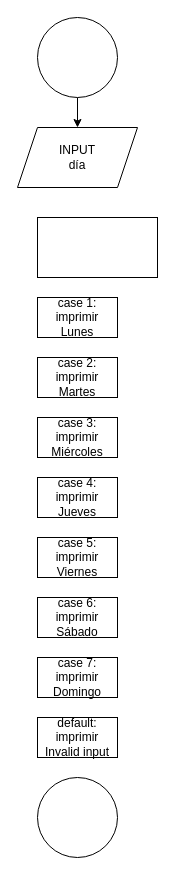
This 175x875 diagram has some shape labels left out. Each missing label, with the centre of its shape:
FIN: pixel 77 817
INICIO: pixel 77 57
switch(día): pixel 97 247
